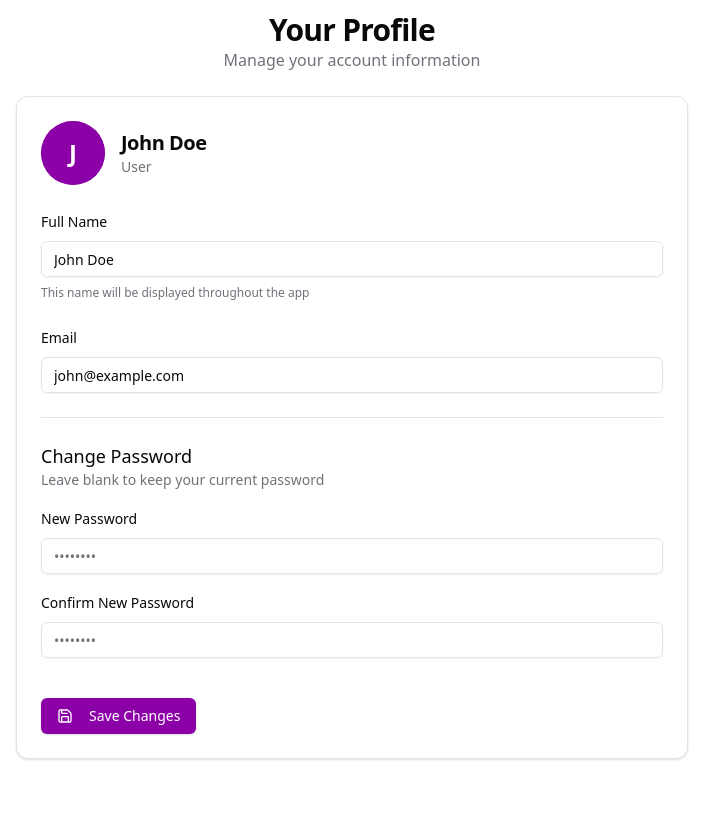
Test case: Profile › validates password minimum length
Type "short" into the password field labelled "New Password" at [352, 556], box [41,538,663,574]
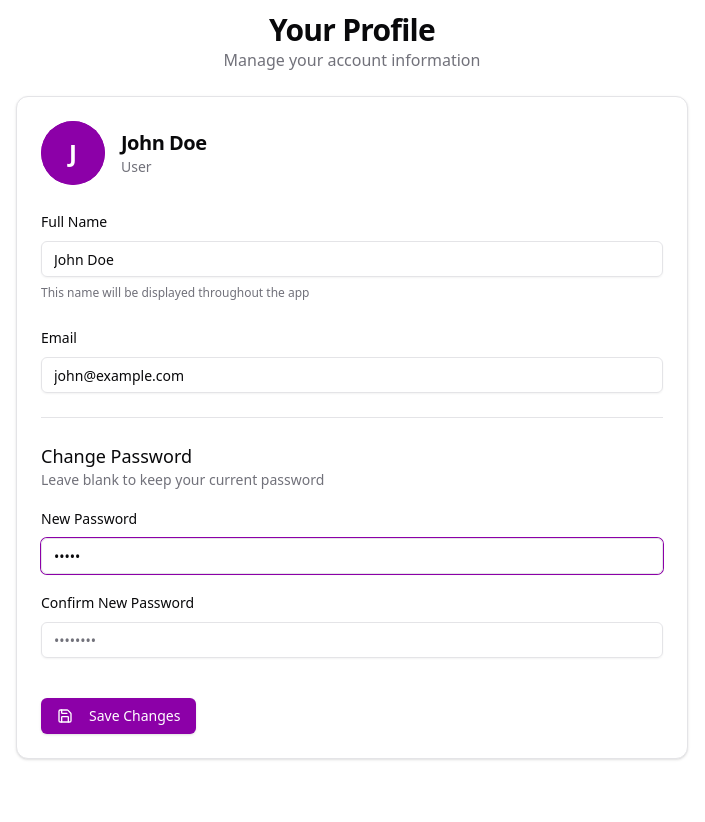
Type "short" into the password field labelled "Confirm New Password" at [352, 640], box [41,622,663,658]
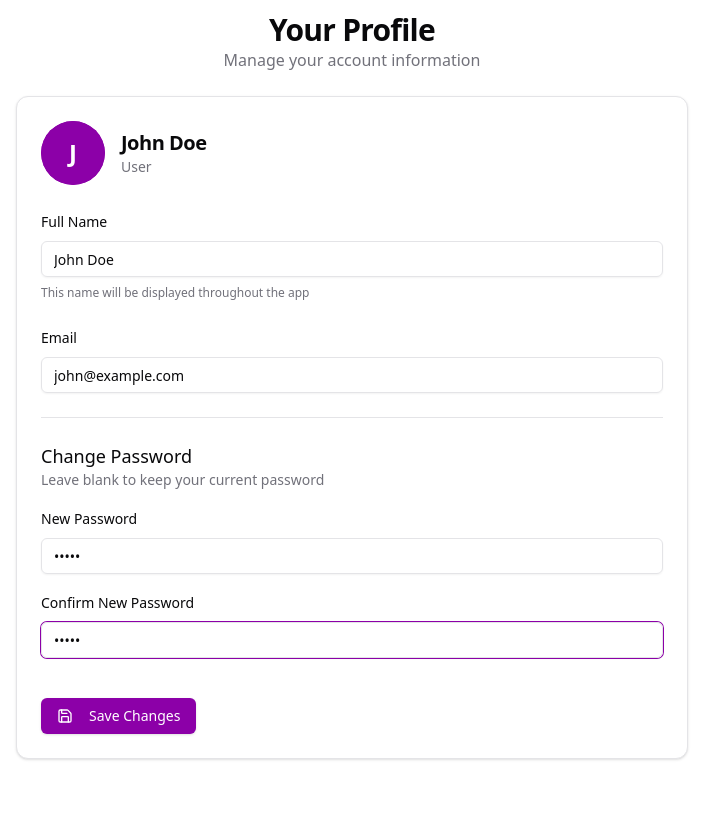
Click the button "Save Changes" at [119, 716], box [41,698,196,734]
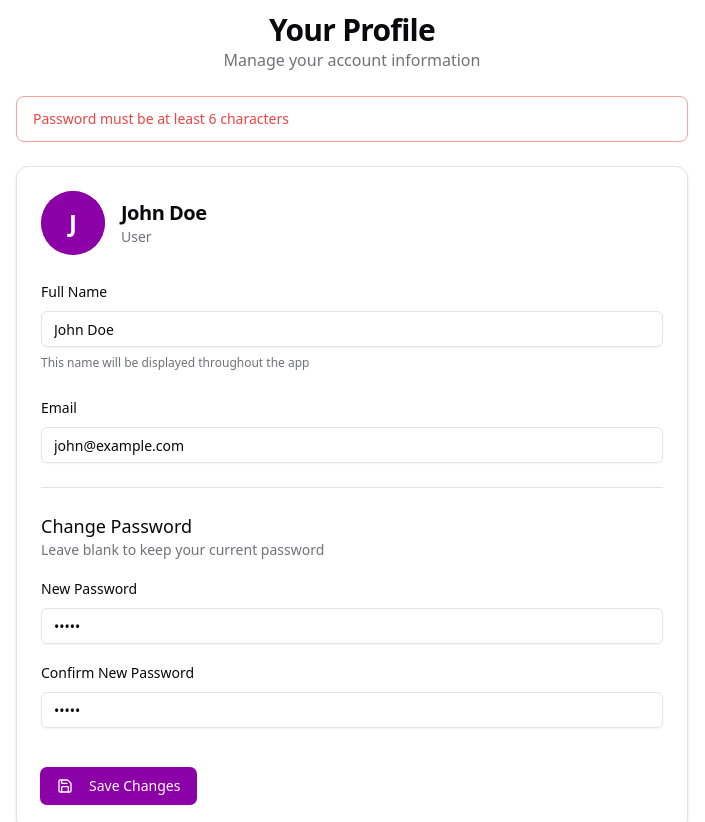
Now the text "Password must be at least 6 characters" is shown, box [33,109,289,128]
